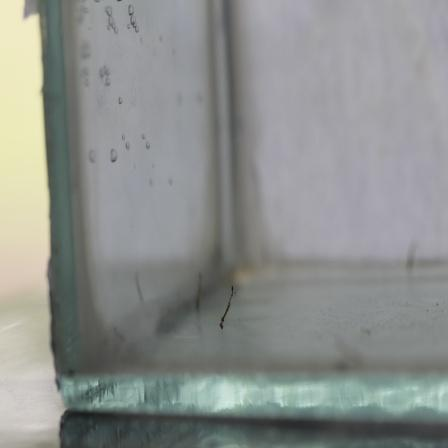Jentik-Nyamuk: (216, 282, 242, 331)
